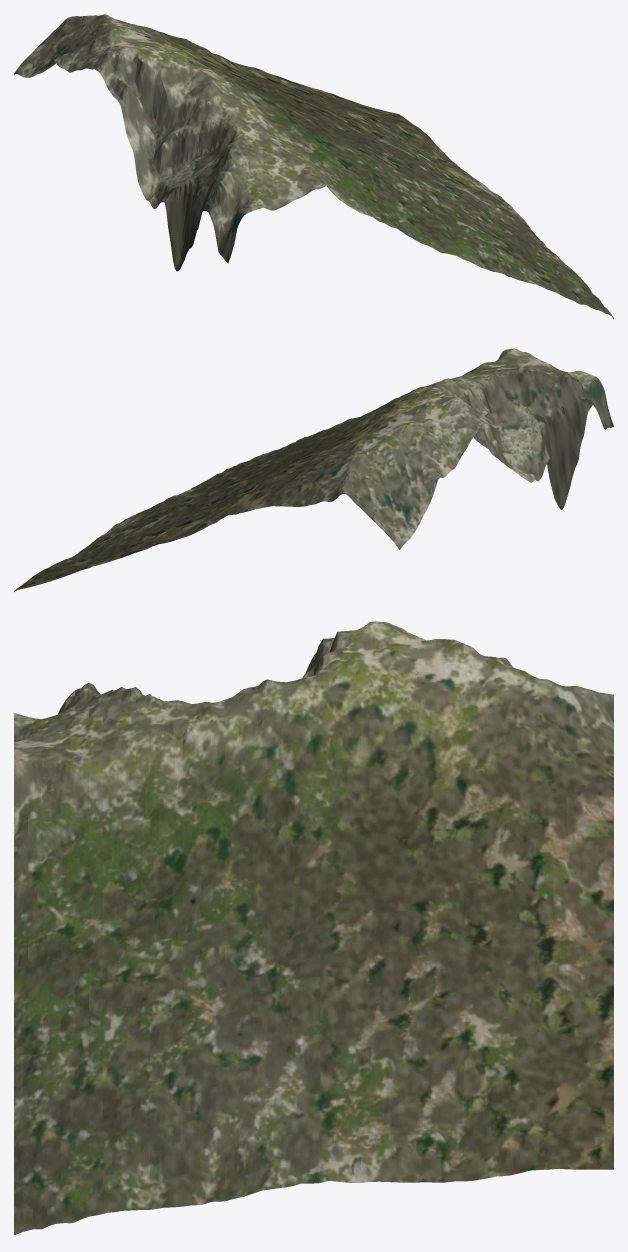
3 views of the same model, one above another, from view 1: azimuth 30°, elevation 25°; view 2: azimuth 150°, elevation 25°; view 3: azimuth 270°, elevation 25° (orthographic). The views are drawn at different scales.
Bounding box in the file's own units: 250 × 163 × 241.
1 material, 1 textured.
